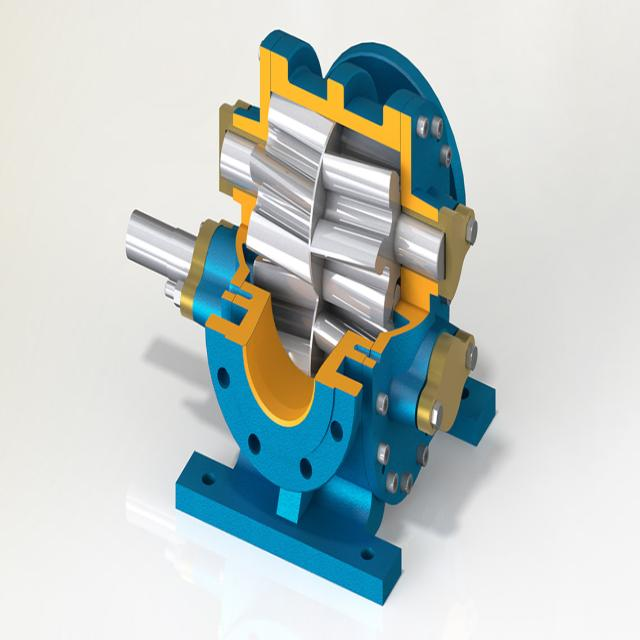Bolt: (429, 401, 444, 432), (415, 442, 429, 469), (431, 114, 445, 140), (466, 217, 478, 247), (400, 469, 413, 496), (466, 342, 478, 371), (385, 469, 398, 495), (376, 390, 388, 417), (376, 442, 389, 466), (416, 116, 429, 140), (440, 143, 452, 169)
Gear: (244, 90, 332, 282), (309, 148, 401, 328)
